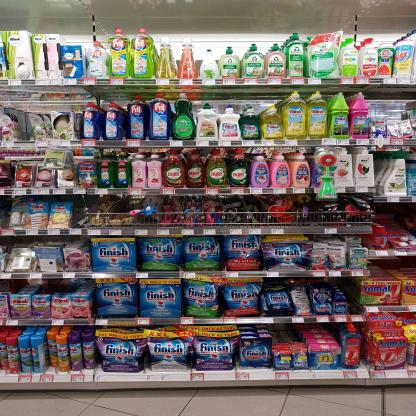Void: (390, 204, 412, 234), (277, 326, 296, 340)
